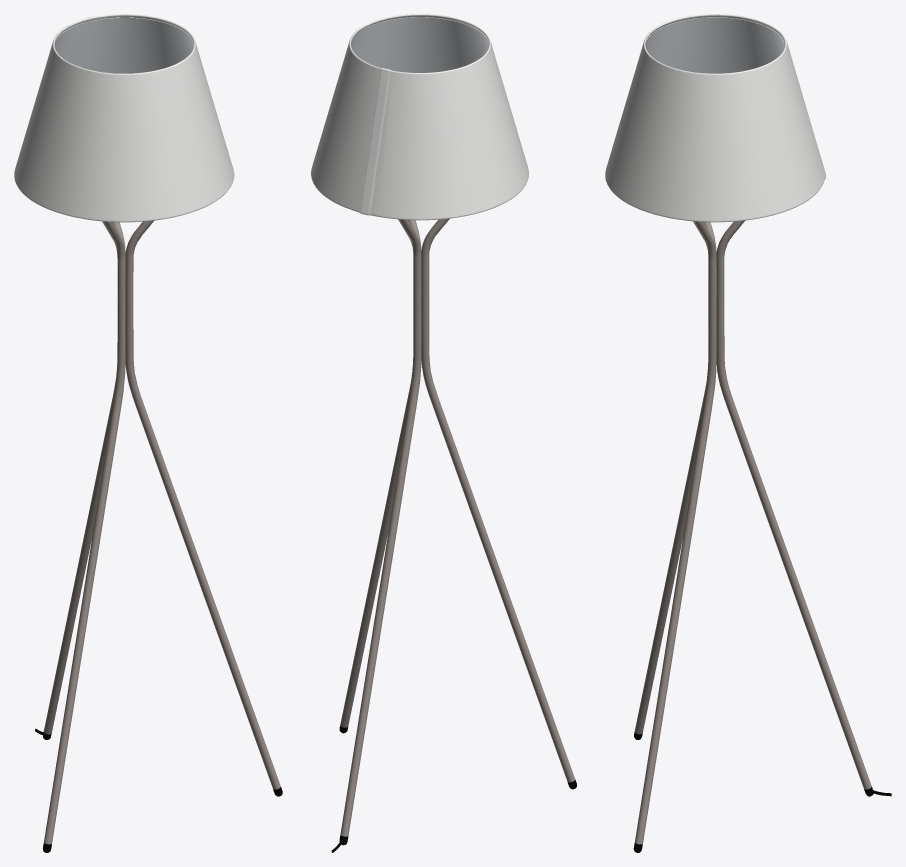
3 views of the same model, side by side, from view 1: azimuth 30°, elevation 25°; view 2: azimuth 150°, elevation 25°; view 3: azimuth 270°, elevation 25° (orthographic).
Visible parts, largest first — view 1: 00566687-BLÃƒâ€žNKFYR001; view 2: 00566687-BLÃƒâ€žNKFYR001; view 3: 00566687-BLÃƒâ€žNKFYR001.
Boxes of the visible parts, left/top/right/bottom form: 00566687-BLÃƒâ€žNKFYR001: left=14, top=14, right=282, bottom=852; 00566687-BLÃƒâ€žNKFYR001: left=311, top=14, right=576, bottom=852; 00566687-BLÃƒâ€žNKFYR001: left=605, top=14, right=891, bottom=852.
Bounding box in the file's own units: 0.5019 × 1.51 × 0.522.
Materials: 1 (1 with a texture image).
